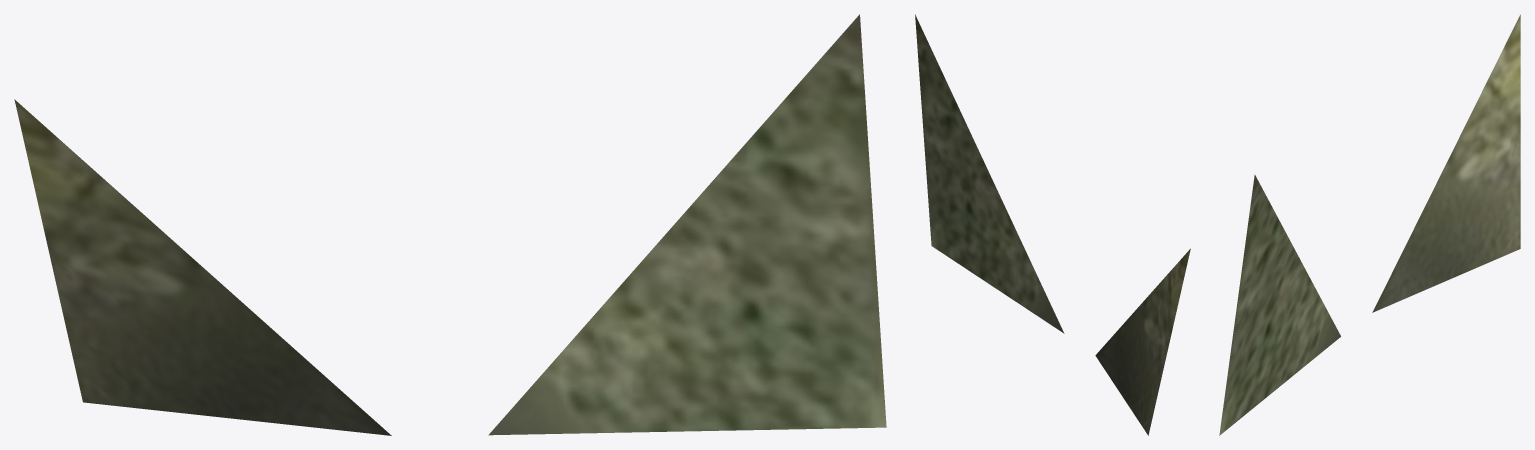
3 renders of one model, left to right at view 1: azimuth 30°, elevation 25°; view 2: azimuth 150°, elevation 25°; view 3: azimuth 270°, elevation 25°, orthographic. The views are drawn at different scales.
Bounding box in the file's own units: 4.37 × 2.55 × 2.66.
1 material, 1 textured.
